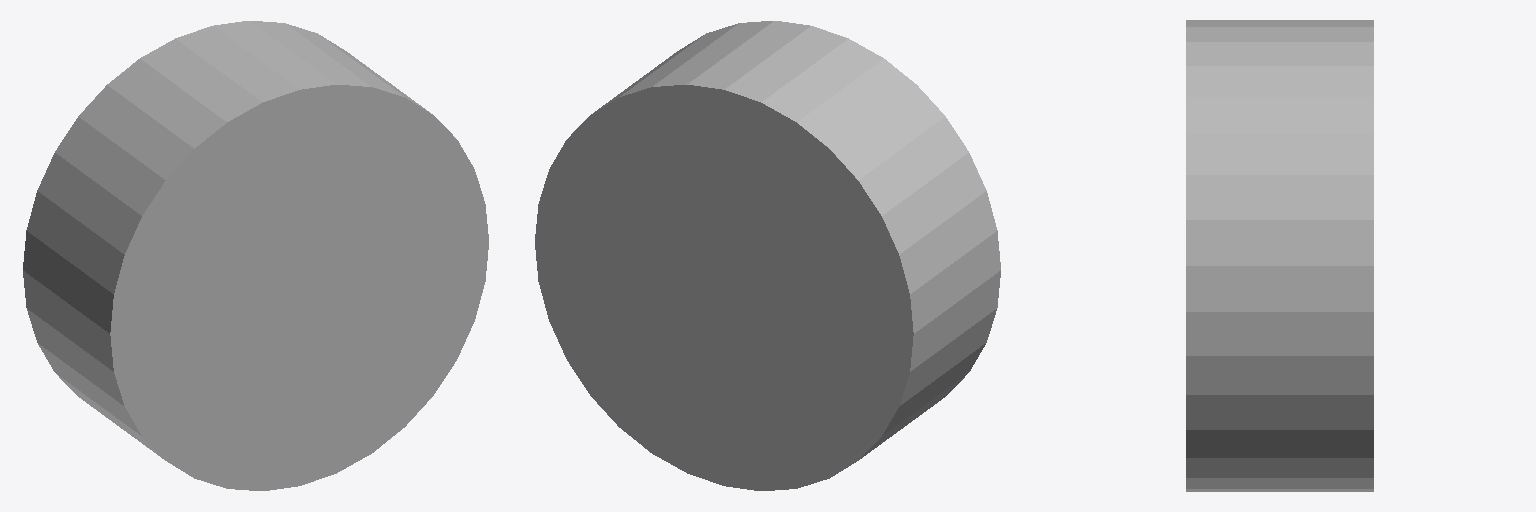
robot.urdf — robot_scene:
<?xml version="1.0" ?>
<!-- =================================================================================== -->
<!-- |    This document was autogenerated by xacro from /root/osx-ur/catkin_ws/src/osx_scu_hand/urdf/ur5e_with_scu_hand.urdf.xacro | -->
<!-- |    EDITING THIS FILE BY HAND IS NOT RECOMMENDED                                 | -->
<!-- =================================================================================== -->
<robot name="robot_scene">
    <!--
    Base UR robot series xacro macro.

    NOTE: this is NOT a URDF. It cannot directly be loaded by consumers
    expecting a flattened '.urdf' file. See the top-level '.xacro' for that
    (but note: that .xacro must still be processed by the xacro command).

    For use in '.launch' files: use one of the 'load_urX.launch' convenience
    launch files.

    This file models the base kinematic chain of a UR robot, which then gets
    parameterised by various configuration files to convert it into a UR3(e),
    UR5(e), UR7e, UR10(e), UR12e UR16e, UR15, UR20 or UR30.

    NOTE: the default kinematic parameters (ie: link lengths, frame locations,
    offets, etc) do not correspond to any particular robot. They are defaults
    only. There WILL be non-zero offsets between the Forward Kinematics results
    in TF (ie: robot_state_publisher) and the values reported by the Teach
    Pendant.

    For accurate (and robot-specific) transforms, the 'kinematics_parameters_file'
    parameter MUST point to a .yaml file containing the appropriate values for
    the targetted robot.

    If using the UniversalRobots/Universal_Robots_ROS_Driver, follow the steps
    described in the readme of that repository to extract the kinematic
    calibration from the controller and generate the required .yaml file.

    Main author of the migration to yaml configs: [author].

    Contributors to previous versions (in no particular order):

     - [author]
     - [author]
     - [author]
     - [author]
     - [author]
     - [author]
     - [author]
     - [author]
     - [author]
     - [author]
     - [author]
     - [author]
     - [author]
     - [author]
     - [author]
     - [author]
     - [author]
  -->
    <!--
    NOTE: the macro defined in this file is NOT part of the public API of this
          package. Users CANNOT rely on this file being available, or stored in
          this location. Nor can they rely on the existence of the macro.
  -->
    <transmission name="shoulder_pan_trans">
        <type>transmission_interface/SimpleTransmission</type>
        <joint name="shoulder_pan_joint">
            <hardwareInterface>hardware_interface/PositionJointInterface</hardwareInterface>
        </joint>
        <actuator name="shoulder_pan_motor">
            <mechanicalReduction>1</mechanicalReduction>
            <hardwareInterface>hardware_interface/EffortJointInterface</hardwareInterface>
        </actuator>
    </transmission>
    <transmission name="shoulder_lift_trans">
        <type>transmission_interface/SimpleTransmission</type>
        <joint name="shoulder_lift_joint">
            <hardwareInterface>hardware_interface/PositionJointInterface</hardwareInterface>
        </joint>
        <actuator name="shoulder_lift_motor">
            <mechanicalReduction>1</mechanicalReduction>
            <hardwareInterface>hardware_interface/EffortJointInterface</hardwareInterface>
        </actuator>
    </transmission>
    <transmission name="elbow_trans">
        <type>transmission_interface/SimpleTransmission</type>
        <joint name="elbow_joint">
            <hardwareInterface>hardware_interface/PositionJointInterface</hardwareInterface>
        </joint>
        <actuator name="elbow_motor">
            <mechanicalReduction>1</mechanicalReduction>
            <hardwareInterface>hardware_interface/EffortJointInterface</hardwareInterface>
        </actuator>
    </transmission>
    <transmission name="wrist_1_trans">
        <type>transmission_interface/SimpleTransmission</type>
        <joint name="wrist_1_joint">
            <hardwareInterface>hardware_interface/PositionJointInterface</hardwareInterface>
        </joint>
        <actuator name="wrist_1_motor">
            <mechanicalReduction>1</mechanicalReduction>
            <hardwareInterface>hardware_interface/EffortJointInterface</hardwareInterface>
        </actuator>
    </transmission>
    <transmission name="wrist_2_trans">
        <type>transmission_interface/SimpleTransmission</type>
        <joint name="wrist_2_joint">
            <hardwareInterface>hardware_interface/PositionJointInterface</hardwareInterface>
        </joint>
        <actuator name="wrist_2_motor">
            <mechanicalReduction>1</mechanicalReduction>
            <hardwareInterface>hardware_interface/EffortJointInterface</hardwareInterface>
        </actuator>
    </transmission>
    <transmission name="wrist_3_trans">
        <type>transmission_interface/SimpleTransmission</type>
        <joint name="wrist_3_joint">
            <hardwareInterface>hardware_interface/PositionJointInterface</hardwareInterface>
        </joint>
        <actuator name="wrist_3_motor">
            <mechanicalReduction>1</mechanicalReduction>
            <hardwareInterface>hardware_interface/EffortJointInterface</hardwareInterface>
        </actuator>
    </transmission>
    <!-- links: main serial chain -->
    <link name="base_link" />
    <link name="base_link_inertia">
        <visual>
            <origin rpy="0 0 3.141592653589793" xyz="0 0 0" />
            <geometry>
                <mesh filename="package://ur_description/meshes/ur5e/visual/base.dae" />
            </geometry>
            <material name="LightGrey">
                <color rgba="0.7 0.7 0.7 1.0" />
            </material>
        </visual>
        <collision>
            <origin rpy="0 0 3.141592653589793" xyz="0 0 0" />
            <geometry>
                <mesh filename="package://ur_description/meshes/ur5e/collision/base.stl" />
            </geometry>
        </collision>
        <inertial>
            <mass value="4.0" />
            <origin rpy="0 0 0" xyz="0 0 0" />
            <inertia ixx="0.00443333156" ixy="0.0" ixz="0.0" iyy="0.00443333156" iyz="0.0" izz="0.0072" />
        </inertial>
    </link>
    <link name="shoulder_link">
        <visual>
            <origin rpy="0 0 3.141592653589793" xyz="0 0 0" />
            <geometry>
                <mesh filename="package://ur_description/meshes/ur5e/visual/shoulder.dae" />
            </geometry>
            <material name="LightGrey">
                <color rgba="0.7 0.7 0.7 1.0" />
            </material>
        </visual>
        <collision>
            <origin rpy="0 0 3.141592653589793" xyz="0 0 0" />
            <geometry>
                <mesh filename="package://ur_description/meshes/ur5e/collision/shoulder.stl" />
            </geometry>
        </collision>
        <inertial>
            <mass value="3.761" />
            <origin rpy="1.570796326794897 0 0" xyz="0.0 -0.00193 -0.02561" />
            <inertia ixx="0.0070021" ixy="7.3e-07" ixz="-1.053e-05" iyy="0.00648091" iyz="0.00049994" izz="0.00657286" />
        </inertial>
    </link>
    <link name="upper_arm_link">
        <visual>
            <origin rpy="1.5707963267948966 0 -1.5707963267948966" xyz="0 0 0.138" />
            <geometry>
                <mesh filename="package://ur_description/meshes/ur5e/visual/upperarm.dae" />
            </geometry>
            <material name="LightGrey">
                <color rgba="0.7 0.7 0.7 1.0" />
            </material>
        </visual>
        <collision>
            <origin rpy="1.5707963267948966 0 -1.5707963267948966" xyz="0 0 0.138" />
            <geometry>
                <mesh filename="package://ur_description/meshes/ur5e/collision/upperarm.stl" />
            </geometry>
        </collision>
        <inertial>
            <mass value="8.058" />
            <origin rpy="0 0 0" xyz="-0.2125 0.0 0.11336" />
            <inertia ixx="0.01505885" ixy="-5.4e-05" ixz="5.63e-06" iyy="0.33388086" iyz="-1.81e-06" izz="0.33247207" />
        </inertial>
    </link>
    <link name="forearm_link">
        <visual>
            <origin rpy="1.5707963267948966 0 -1.5707963267948966" xyz="0 0 0.007" />
            <geometry>
                <mesh filename="package://ur_description/meshes/ur5e/visual/forearm.dae" />
            </geometry>
            <material name="LightGrey">
                <color rgba="0.7 0.7 0.7 1.0" />
            </material>
        </visual>
        <collision>
            <origin rpy="1.5707963267948966 0 -1.5707963267948966" xyz="0 0 0.007" />
            <geometry>
                <mesh filename="package://ur_description/meshes/ur5e/collision/forearm.stl" />
            </geometry>
        </collision>
        <inertial>
            <mass value="2.846" />
            <origin rpy="0 0 0" xyz="-0.2422 0.0 0.0265" />
            <inertia ixx="0.00399632" ixy="-1.365e-05" ixz="0.00137272" iyy="0.07879254" iyz="-6.6e-06" izz="0.0784851" />
        </inertial>
    </link>
    <link name="wrist_1_link">
        <visual>
            <!-- TODO: Move this to a parameter -->
            <origin rpy="1.5707963267948966 0 0" xyz="0 0 -0.127" />
            <geometry>
                <mesh filename="package://ur_description/meshes/ur5e/visual/wrist1.dae" />
            </geometry>
            <material name="LightGrey">
                <color rgba="0.7 0.7 0.7 1.0" />
            </material>
        </visual>
        <collision>
            <origin rpy="1.5707963267948966 0 0" xyz="0 0 -0.127" />
            <geometry>
                <mesh filename="package://ur_description/meshes/ur5e/collision/wrist1.stl" />
            </geometry>
        </collision>
        <inertial>
            <mass value="1.37" />
            <origin rpy="1.570796326794897 0 0" xyz="0.0 -0.01634 -0.0018" />
            <inertia ixx="0.00165491" ixy="-2.82e-06" ixz="-4.38e-06" iyy="0.00135962" iyz="0.00010157" izz="0.00126279" />
        </inertial>
    </link>
    <link name="wrist_2_link">
        <visual>
            <origin rpy="0 0 0" xyz="0 0 -0.0997" />
            <geometry>
                <mesh filename="package://ur_description/meshes/ur5e/visual/wrist2.dae" />
            </geometry>
            <material name="LightGrey">
                <color rgba="0.7 0.7 0.7 1.0" />
            </material>
        </visual>
        <collision>
            <origin rpy="0 0 0" xyz="0 0 -0.0997" />
            <geometry>
                <mesh filename="package://ur_description/meshes/ur5e/collision/wrist2.stl" />
            </geometry>
        </collision>
        <inertial>
            <mass value="1.3" />
            <origin rpy="-1.570796326794897 0 0" xyz="0.0 0.01634 -0.0018" />
            <inertia ixx="0.00135617" ixy="-2.74e-06" ixz="4.44e-06" iyy="0.00127827" iyz="-5.048e-05" izz="0.00096614" />
        </inertial>
    </link>
    <link name="wrist_3_link">
        <visual>
            <origin rpy="1.5707963267948966 0 0" xyz="0 0 -0.0989" />
            <geometry>
                <mesh filename="package://ur_description/meshes/ur5e/visual/wrist3.dae" />
            </geometry>
            <material name="LightGrey">
                <color rgba="0.7 0.7 0.7 1.0" />
            </material>
        </visual>
        <collision>
            <origin rpy="1.5707963267948966 0 0" xyz="0 0 -0.0989" />
            <geometry>
                <mesh filename="package://ur_description/meshes/ur5e/collision/wrist3.stl" />
            </geometry>
        </collision>
        <inertial>
            <mass value="0.365" />
            <origin rpy="0 0 0" xyz="0.0 0.0 -0.001159" />
            <inertia ixx="0.00018694" ixy="6e-08" ixz="-1.7e-07" iyy="0.00018908" iyz="-9.2e-07" izz="0.00025756" />
        </inertial>
    </link>
    <!-- joints: main serial chain -->
    <joint name="base_link-base_link_inertia" type="fixed">
        <parent link="base_link" />
        <child link="base_link_inertia" />
        <!-- 'base_link' is REP-103 aligned (so X+ forward), while the internal
           frames of the robot/controller have X+ pointing backwards.
           Use the joint between 'base_link' and 'base_link_inertia' (a dummy
           link/frame) to introduce the necessary rotation over Z (of pi rad).
      -->
        <origin rpy="0 0 3.141592653589793" xyz="0 0 0" />
    </joint>
    <joint name="shoulder_pan_joint" type="revolute">
        <parent link="base_link_inertia" />
        <child link="shoulder_link" />
        <origin rpy="0 0 0" xyz="0 0 0.1625" />
        <axis xyz="0 0 1" />
        <limit effort="150.0" lower="-6.283185307179586" upper="6.283185307179586" velocity="3.141592653589793" />
        <dynamics damping="0" friction="0" />
    </joint>
    <joint name="shoulder_lift_joint" type="revolute">
        <parent link="shoulder_link" />
        <child link="upper_arm_link" />
        <origin rpy="1.570796327 0 0" xyz="0 0 0" />
        <axis xyz="0 0 1" />
        <limit effort="150.0" lower="-6.283185307179586" upper="6.283185307179586" velocity="3.141592653589793" />
        <dynamics damping="0" friction="0" />
    </joint>
    <joint name="elbow_joint" type="revolute">
        <parent link="upper_arm_link" />
        <child link="forearm_link" />
        <origin rpy="0 0 0" xyz="-0.425 0 0" />
        <axis xyz="0 0 1" />
        <limit effort="150.0" lower="-3.141592653589793" upper="3.141592653589793" velocity="3.141592653589793" />
        <dynamics damping="0" friction="0" />
    </joint>
    <joint name="wrist_1_joint" type="revolute">
        <parent link="forearm_link" />
        <child link="wrist_1_link" />
        <origin rpy="0 0 0" xyz="-0.3922 0 0.1333" />
        <axis xyz="0 0 1" />
        <limit effort="28.0" lower="-6.283185307179586" upper="6.283185307179586" velocity="3.141592653589793" />
        <dynamics damping="0" friction="0" />
    </joint>
    <joint name="wrist_2_joint" type="revolute">
        <parent link="wrist_1_link" />
        <child link="wrist_2_link" />
        <origin rpy="1.570796327 0 0" xyz="0 -0.0997 -2.044881182297852e-11" />
        <axis xyz="0 0 1" />
        <limit effort="28.0" lower="-6.283185307179586" upper="6.283185307179586" velocity="3.141592653589793" />
        <dynamics damping="0" friction="0" />
    </joint>
    <joint name="wrist_3_joint" type="revolute">
        <parent link="wrist_2_link" />
        <child link="wrist_3_link" />
        <origin rpy="1.570796326589793 3.141592653589793 3.141592653589793" xyz="0 0.0996 -2.042830148012698e-11" />
        <axis xyz="0 0 1" />
        <limit effort="28.0" lower="-6.283185307179586" upper="6.283185307179586" velocity="3.141592653589793" />
        <dynamics damping="0" friction="0" />
    </joint>
    <!-- ROS-Industrial 'base' frame: base_link to UR 'Base' Coordinates transform -->
    <link name="base" />
    <joint name="base_link-base_fixed_joint" type="fixed">
        <!-- Note the rotation over Z of pi radians: as base_link is REP-103
           aligned (ie: has X+ forward, Y+ left and Z+ up), this is needed
           to correctly align 'base' with the 'Base' coordinate system of
           the UR controller.
      -->
        <origin rpy="0 0 3.141592653589793" xyz="0 0 0" />
        <parent link="base_link" />
        <child link="base" />
    </joint>
    <!-- ROS-Industrial 'flange' frame: attachment point for EEF models -->
    <link name="flange" />
    <joint name="wrist_3-flange" type="fixed">
        <parent link="wrist_3_link" />
        <child link="flange" />
        <origin rpy="0 -1.5707963267948966 -1.5707963267948966" xyz="0 0 0" />
    </joint>
    <!-- ROS-Industrial 'tool0' frame: all-zeros tool frame -->
    <link name="tool0" />
    <joint name="flange-tool0" type="fixed">
        <!-- default toolframe: X+ left, Y+ up, Z+ front -->
        <origin rpy="1.5707963267948966 0 1.5707963267948966" xyz="0 0 0" />
        <parent link="flange" />
        <child link="tool0" />
    </joint>
    <link name="ee_link">
        <collision>
            <geometry>
                <box size="0.01 0.01 0.01" />
            </geometry>
            <origin rpy="0 0 0" xyz="0 0 0" />
        </collision>
        <inertial>
            <mass value="0.1" />
            <origin xyz="0 0 0" rpy="0 0 0" />
            <inertia ixx="0.03" iyy="0.03" izz="0.03" ixy="0.0" ixz="0.0" iyz="0.0" />
        </inertial>
    </link>
    <joint name="ee_fixed_joint" type="fixed">
        <parent link="wrist_3_link" />
        <child link="ee_link" />
        <origin rpy="0.0 -1.57079632679 1.57079632679" xyz="0.0 0.0 0.0" />
    </joint>
    <link name="world" />
    <link name="osx_ground" />
    <!-- The "world" link definition should be removed, but apparently it is necessary for Gazebo -->
    <joint name="world_osx_joint" type="fixed">
        <parent link="world" />
        <child link="osx_ground" />
        <origin rpy="0.0 0.0 0.0" xyz="0.0 0.0 0.0" />
    </joint>
    <joint name="osx_robot_joint" type="fixed">
        <parent link="osx_ground" />
        <child link="base_link" />
        <origin rpy="0.0 0.0 0.0" xyz="0 0 0.0" />
    </joint>
    <!-- Add the force sensor in front of the gripper. -->
    <joint name="flex_wrist_joint" type="fixed">
        <parent link="ee_link" />
        <child link="pestle_link" />
        <origin rpy="0.0 1.5707963267948966 0.0" xyz="0.0 0.0 0.0" />
    </joint>
    <link name="pestle_link">
        <visual>
            <origin rpy="0 0 0" xyz="0.0 0.0 0.014" />
            <geometry>
                <cylinder length="0.028" radius="0.035" />
            </geometry>
            <material name="Grey">
                <color rgba="0.75 0.75 0.75 1.0" />
            </material>
        </visual>
        <visual>
            <origin rpy="1.5707963267948966 0 -1.5707963267948966" xyz="0.0 0.0 0.028" />
            <geometry>
                <mesh filename="package://osx_scu_hand/urdf/meshes/scu-hand.stl" scale="0.001 0.001 0.001" />
            </geometry>
            <material name="Black">
                <color rgba="0.2 0.2 0.2 1.0" />
            </material>
        </visual>
        <collision>
            <origin rpy="1.5707963267948966 0 -1.5707963267948966" xyz="0.0 0.0 0.028" />
            <geometry>
                <mesh filename="package://osx_scu_hand/urdf/meshes/scu-hand.stl" scale="0.001 0.001 0.001" />
            </geometry>
            <material name="Black">
                <color rgba="0.2 0.2 0.2 1.0" />
            </material>
        </collision>
        <inertial>
            <mass value="0.1" />
            <origin xyz="0 0 0" rpy="0 0 0" />
            <inertia ixx="0.03" iyy="0.03" izz="0.03" ixy="0.0" ixz="0.0" iyz="0.0" />
        </inertial>
    </link>
    <gazebo reference="pestle_link">
        <material>Gazebo/Black</material>
        <kp>50000.0</kp>
        <kd>1.0</kd>
        <mu1>1.0</mu1>
        <mu2>1.0</mu2>
        <minDepth>0.001</minDepth>
        <plugin name="gazebo_ros_control" filename="libgazebo_ros_control.so">
            <robotNamespace>/</robotNamespace>
        </plugin>
    </gazebo>
    <!-- Add additional links for us to plan with. Oriented like the UR frame. -->
    <joint name="ee_tip_link_joint" type="fixed">
        <parent link="tool0" />
        <child link="gripper_tip_link" />
        <!-- distance from ur5 to tip, might look different in rviz due to depth of pestle into the housing of the real robot vs stl -->
        <origin rpy="0.0 0.0 0.0" xyz="0 -0.085 0.19" />
        <!-- <origin rpy="0.0 0.0 0.0" xyz="0 0.0 0.119"/> -->
    </joint>
    <link name="gripper_tip_link" />
    <!-- spawn mortar and table-->
    <!-- <xacro:include filename="$(find osx_scu_hand)/urdf/table_arena.urdf.xacro" />
  <xacro:table_arena/> -->
</robot>

--- What the picture shows (computed from the rendered views, not written in the file) ---
Views: 3 orthographic renders of the robot side by side, from view 1: azimuth 30°, elevation 25°; view 2: azimuth 150°, elevation 25°; view 3: azimuth 270°, elevation 25°.
Model robot_scene with 16 links and 15 joints (6 revolute, 9 fixed), rooted at world, posed every joint at zero.
Links seen in each view (by area): view 1: pestle_link; view 2: pestle_link; view 3: pestle_link.
Boxes of the visible links, bbox=[...] form: pestle_link: bbox=[23, 21, 488, 490]; pestle_link: bbox=[535, 21, 1000, 490]; pestle_link: bbox=[1186, 20, 1373, 491].
Size in the robot's own frame: 0.07 by 0.028 by 0.07 metres.
Meshes: 8 distinct files referenced, 0 mesh visuals loaded (none loaded); not drawn: 8 (reference not matched to a file when rendering).